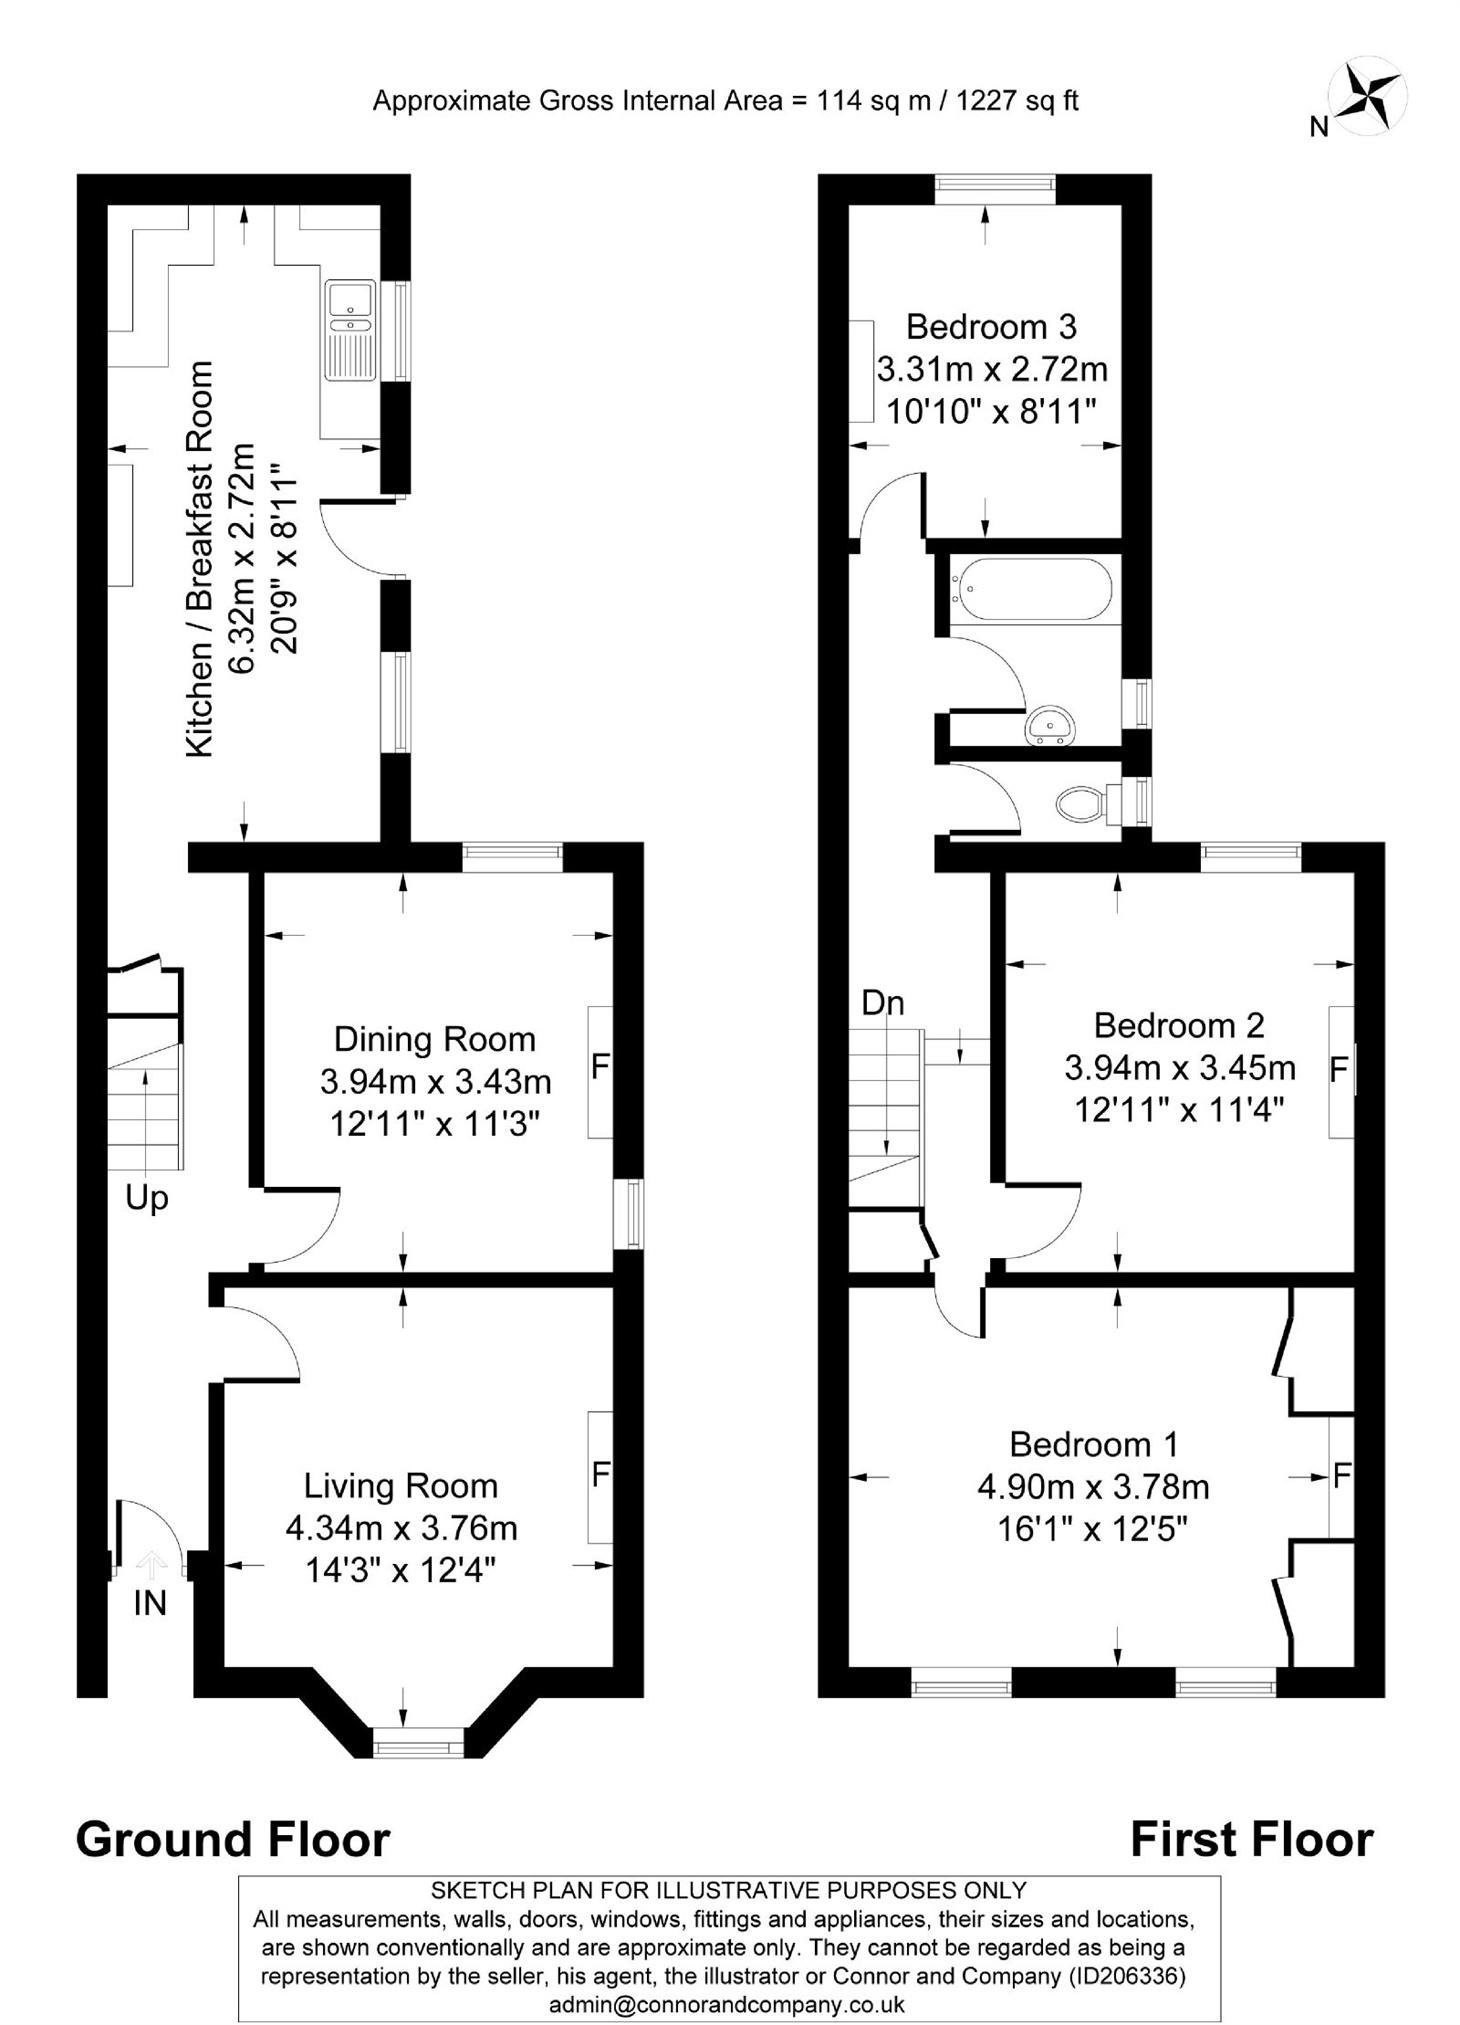window: (372, 646, 424, 756), (907, 1660, 1015, 1712), (927, 167, 1059, 209), (457, 829, 566, 879), (368, 1722, 467, 1772), (372, 278, 420, 384), (1196, 838, 1304, 884), (1172, 1663, 1279, 1707), (607, 1173, 651, 1253), (1114, 673, 1157, 731), (1117, 772, 1152, 829)
